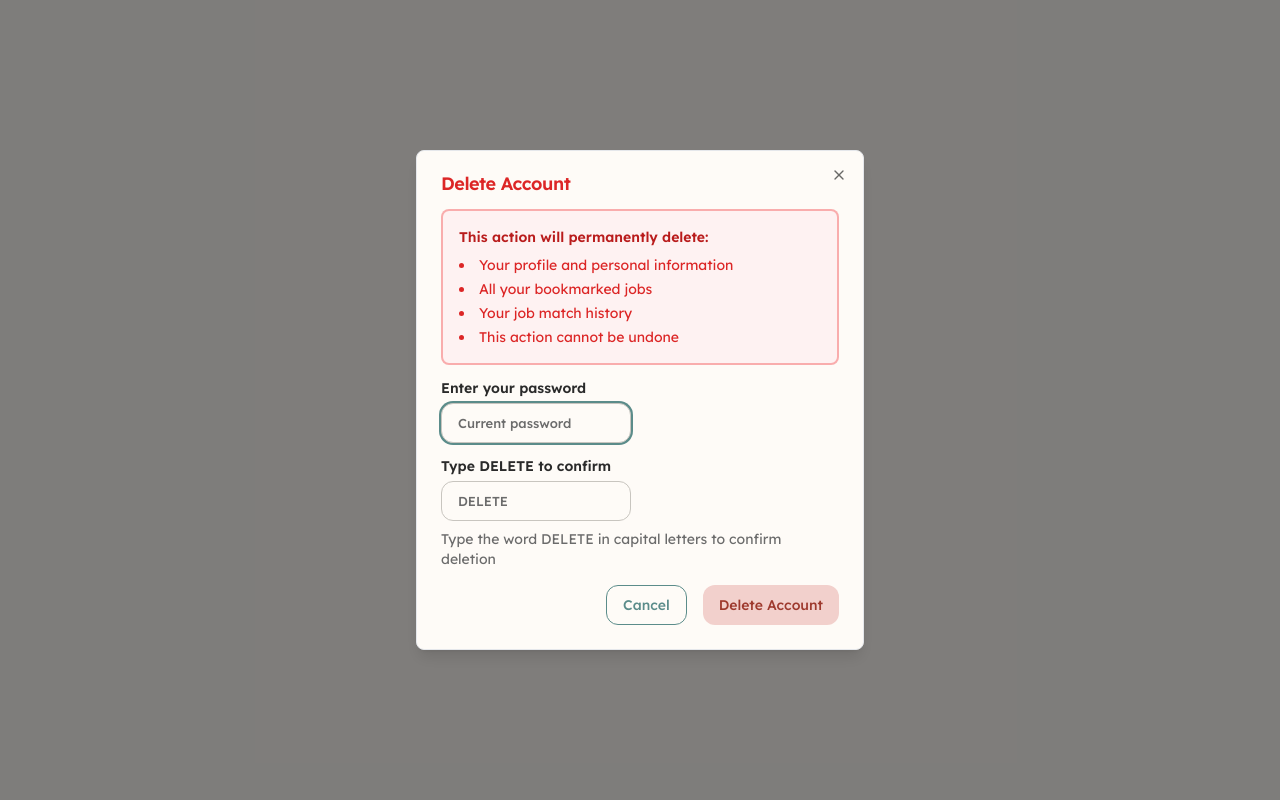
DeleteAccountModal › shows error when confirmation is wrong
Type "mypassword123" into the password field with placeholder "Current password" at (536, 423), box [441,403,631,443]
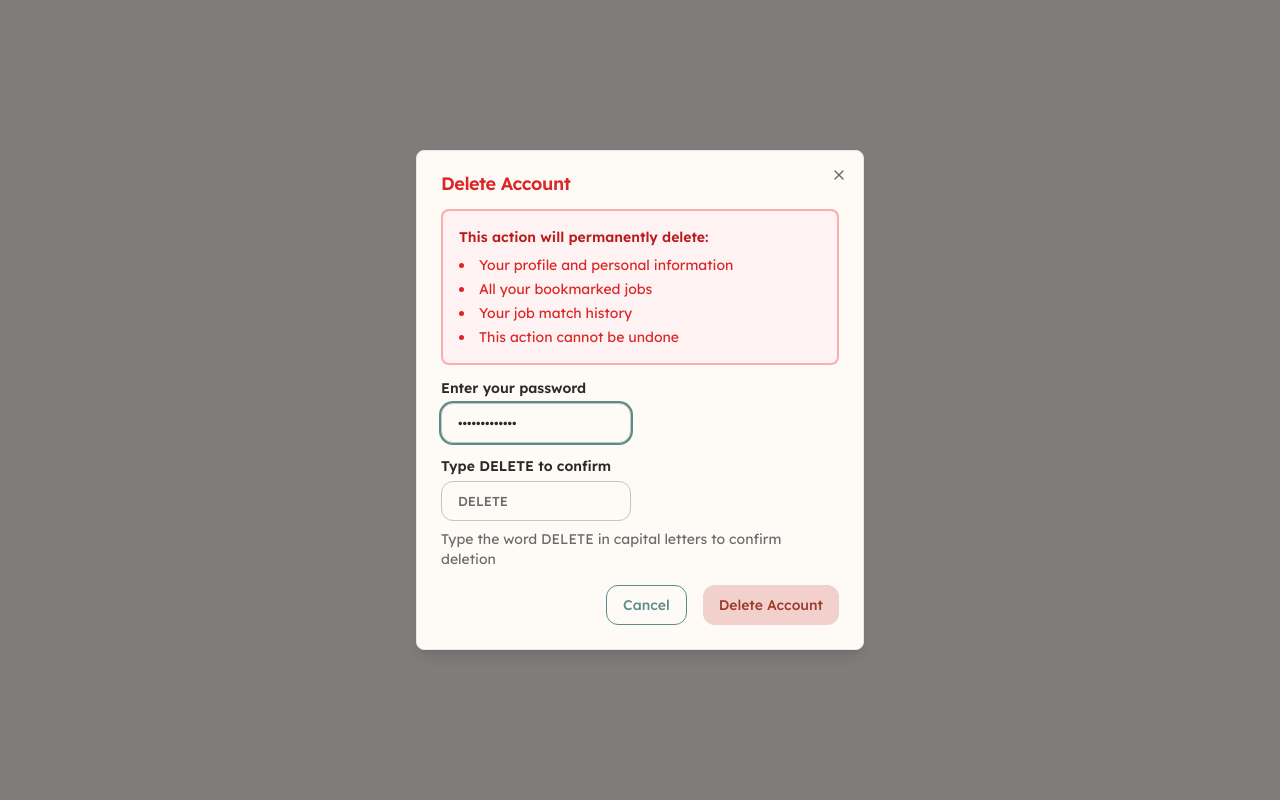
Type "WRONG" into the field with placeholder "DELETE" at (536, 501), box [441,481,631,521]
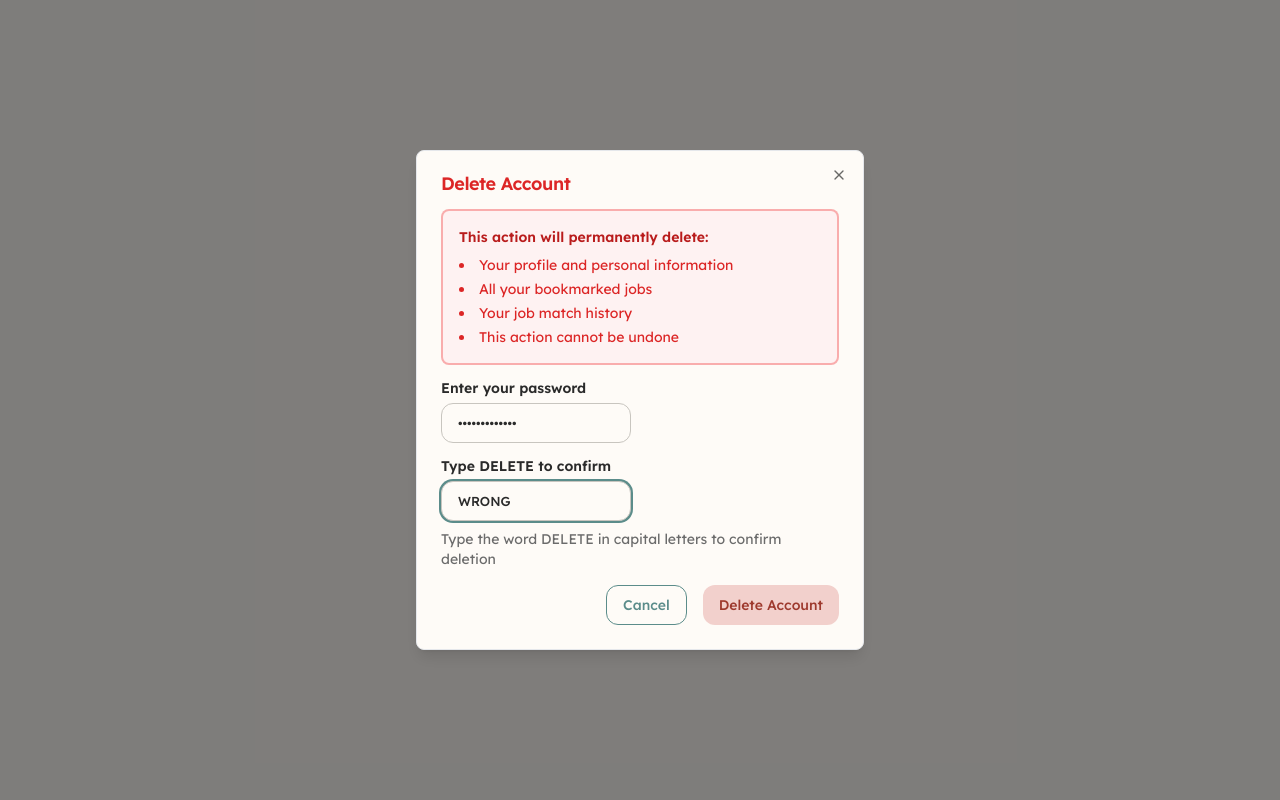
Click the button "Delete Account" at (771, 605), box [703,585,839,625]
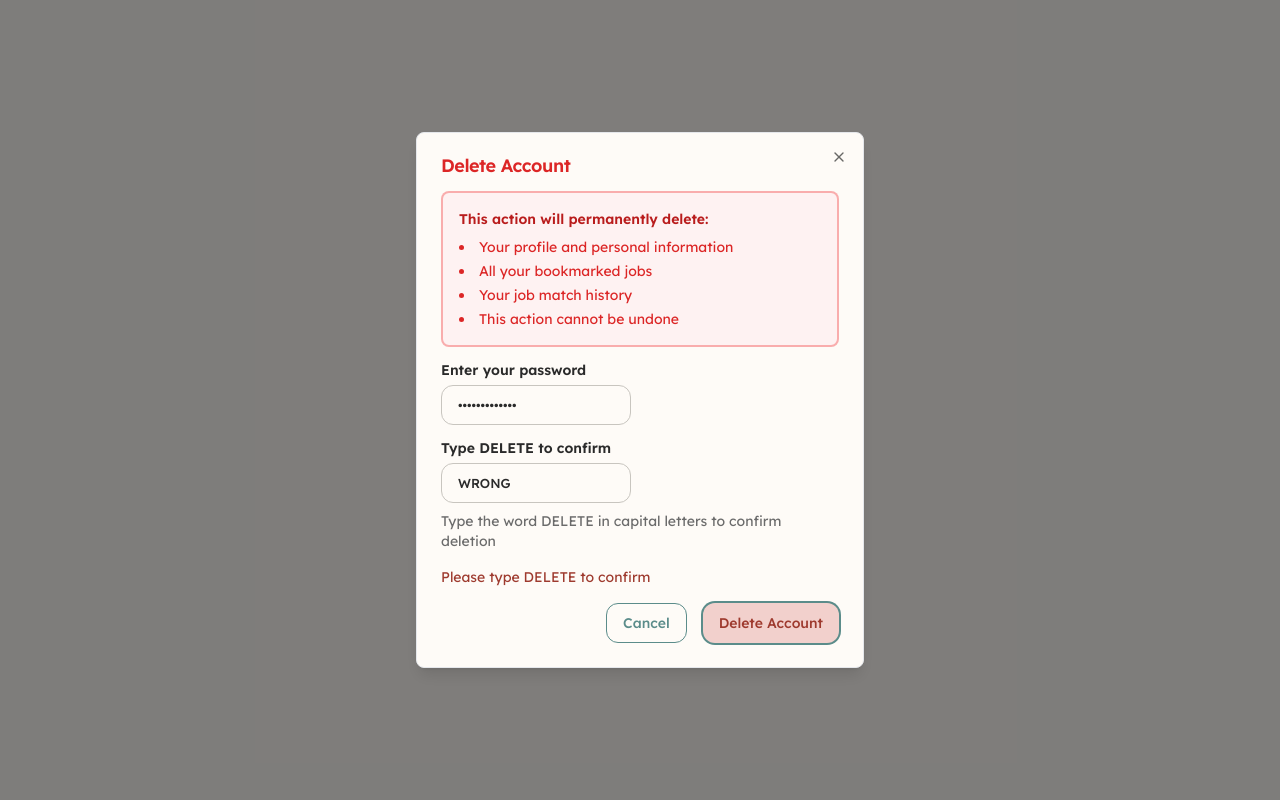
Expected: the text "Please type DELETE to confirm" is shown, [441,568,650,586]
